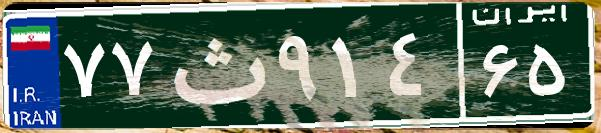1: (330, 28, 385, 110)
4: (385, 28, 445, 110)
5: (525, 38, 570, 115)
6: (475, 38, 525, 113)
7: (57, 26, 110, 107), (110, 28, 158, 105)
9: (273, 28, 330, 110)
ث: (158, 15, 273, 115)
